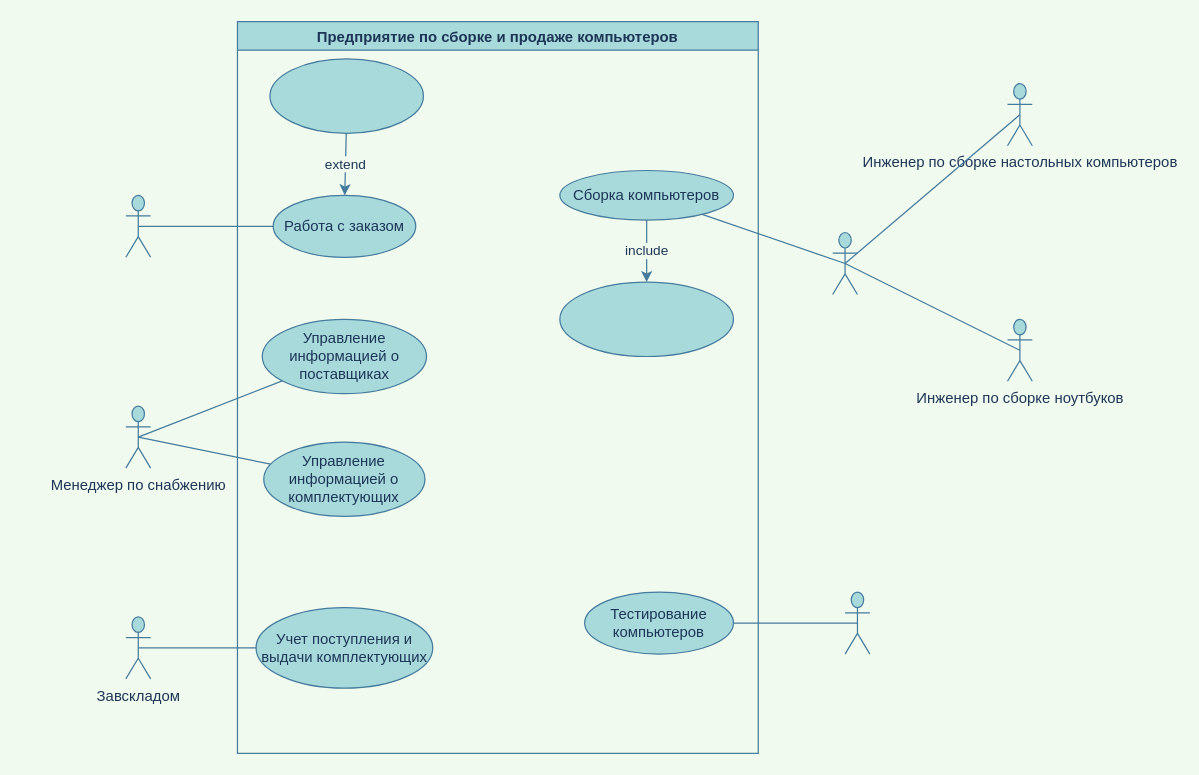
This 1199x775 diagram has some shape labels left out. Here are the shapes that lost their labels. From the top down, the centre of each, then its label:
At [346,95]: "Управление информацией о клиенте".
At [138,225]: "Менеджер по работе с клиентами".
At [844,262]: "Инженер по сборке".
At [646,318]: "Требование необходимых комплектующих".
At [857,622]: "Инженер по тестированию".
